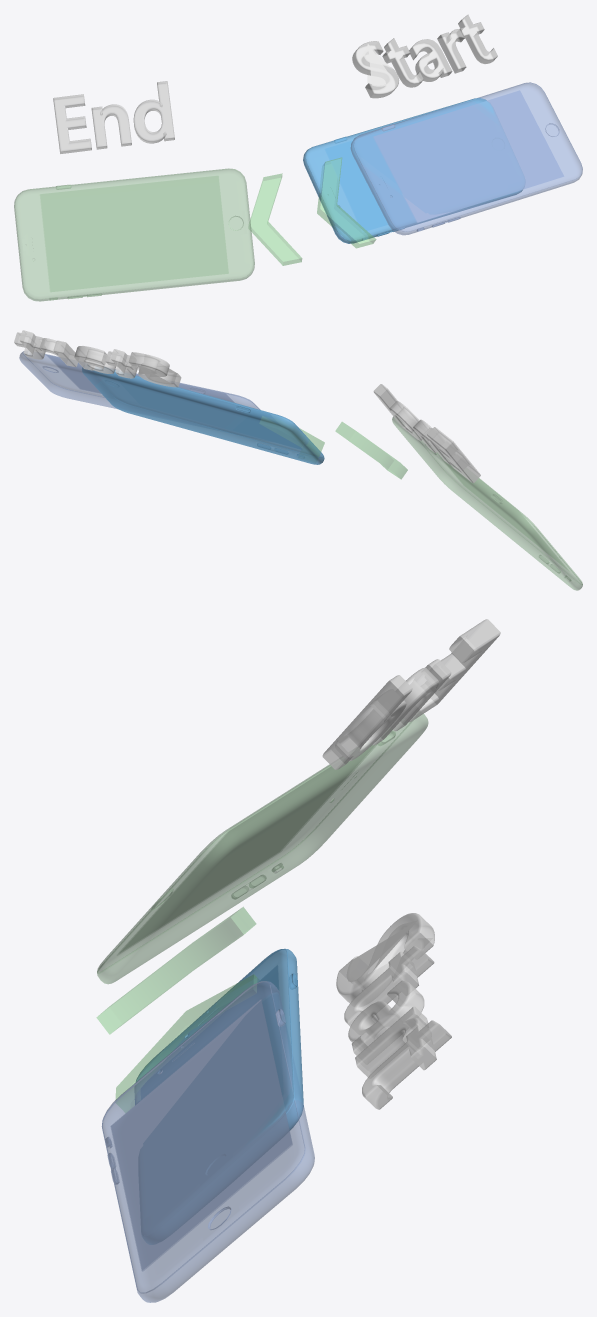
File: ani3.fbx
The picture shows the model from 3 angles, top to bottom: view 1: azimuth 30°, elevation 25°; view 2: azimuth 150°, elevation 25°; view 3: azimuth 270°, elevation 25°; orthographic projection. The views are drawn at different scales.
Visible parts, largest first — view 1: pasted__polySurface38 (×3), pasted__pPlane1 (×3), pasted__polySurface50 (×3), typeMesh1, pasted__pasted__pasted__pCube9 (×2), typeMesh2; view 2: pasted__polySurface50 (×3), pasted__polySurface27 (×3), pasted__polySurface38 (×3), typeMesh1, typeMesh2, pasted__pasted__pasted__pCube9 (×2); view 3: pasted__polySurface38 (×3), pasted__pPlane1 (×2), pasted__polySurface50 (×3), typeMesh1, pasted__polySurface27, pasted__pasted__pasted__pCube9 (×2), typeMesh2.
Part boxes in pixels (x1,y1,x2,y2): pasted__polySurface38 (×3): [15, 82, 582, 298]; pasted__pPlane1 (×3): [40, 90, 563, 291]; pasted__polySurface50 (×3): [14, 82, 582, 301]; typeMesh1: [352, 14, 497, 98]; pasted__pasted__pasted__pCube9 (×2): [249, 157, 376, 265]; typeMesh2: [53, 81, 174, 153]; pasted__polySurface50 (×3): [19, 351, 582, 590]; pasted__polySurface27 (×3): [48, 356, 567, 569]; pasted__polySurface38 (×3): [22, 351, 582, 584]; typeMesh1: [14, 330, 181, 387]; typeMesh2: [373, 384, 480, 482]; pasted__pasted__pasted__pCube9 (×2): [260, 417, 407, 479]; pasted__polySurface38 (×3): [97, 721, 412, 1292]; pasted__pPlane1 (×2): [110, 965, 291, 1270]; pasted__polySurface50 (×3): [97, 713, 428, 1302]; typeMesh1: [336, 913, 451, 1109]; pasted__polySurface27: [118, 745, 376, 954]; pasted__pasted__pasted__pCube9 (×2): [96, 907, 258, 1112]; typeMesh2: [322, 619, 500, 769].
Size of the model in its own units: 5.89 by 1.79 by 1.98.
